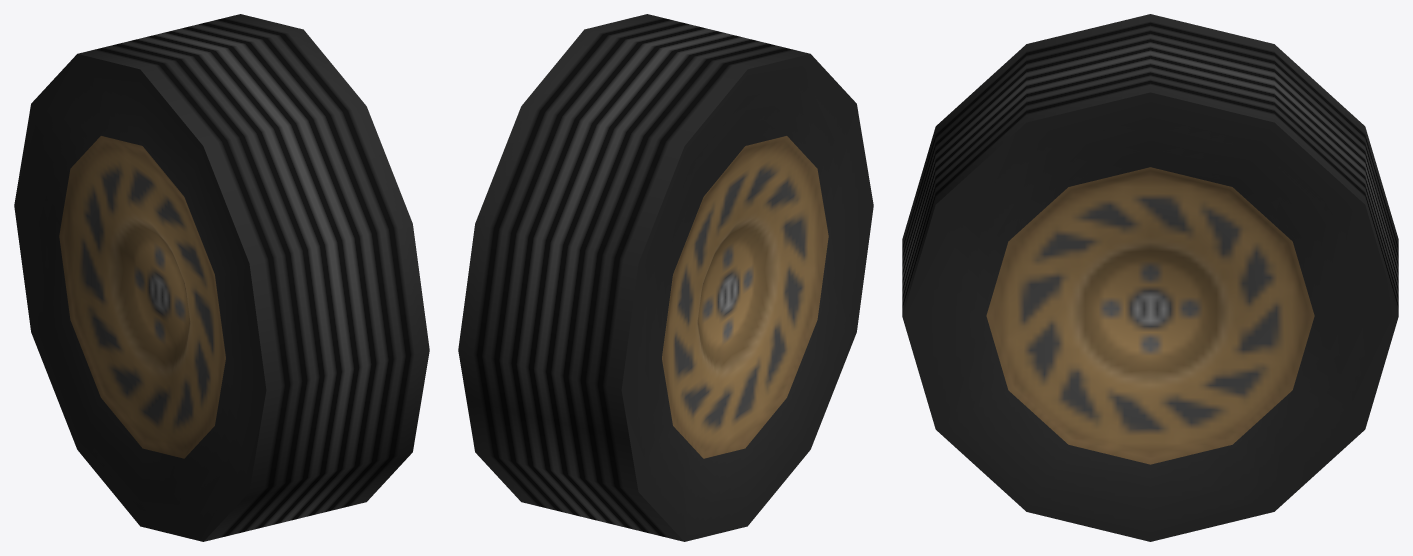
The model's file is TurboCovetFrontWheel.fbx.
3 renders of one model, left to right at view 1: azimuth 30°, elevation 25°; view 2: azimuth 150°, elevation 25°; view 3: azimuth 270°, elevation 25°, orthographic.
Visible parts, largest first — view 1: WheelCovetA; view 2: WheelCovetA; view 3: WheelCovetA.
Part boxes in pixels (bbox=[...]): WheelCovetA: bbox=[14, 14, 429, 541]; WheelCovetA: bbox=[458, 14, 873, 541]; WheelCovetA: bbox=[902, 14, 1398, 541].
Bounding box in the file's own units: 0.2339 × 0.6253 × 0.6253.
